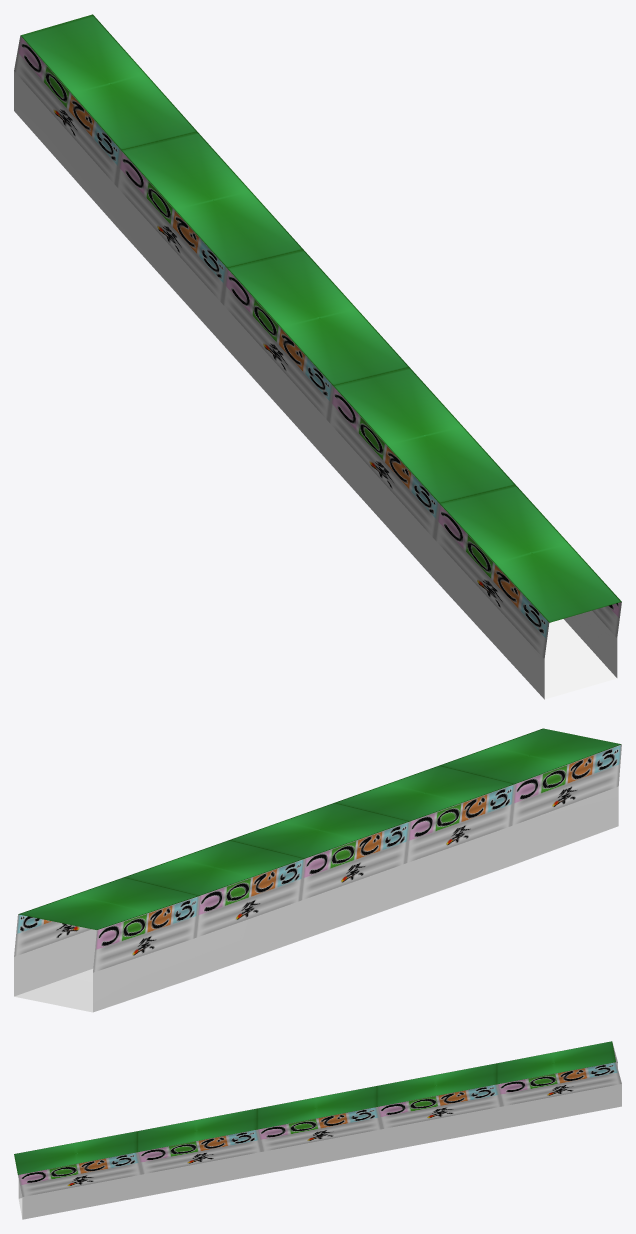
The model's file is CourseWinter_Wall_R_7.fbx.
3 views of the same model, one above another, from view 1: azimuth 30°, elevation 25°; view 2: azimuth 150°, elevation 25°; view 3: azimuth 270°, elevation 25° (orthographic). The views are drawn at different scales.
Visible parts, largest first — view 1: polySurface432; view 2: polySurface432; view 3: polySurface432.
Part boxes in pixels (x1,y1,x2,y2): polySurface432: (14,14,621,699); polySurface432: (14,728,621,1012); polySurface432: (14,1041,621,1219).
Bounding box in the file's own units: 2.03 × 6.97 × 24.34.
1 material, 1 textured.
